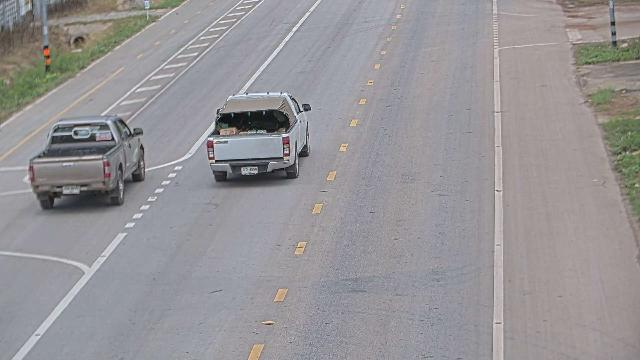pickup-truck: (27, 114, 146, 210), (206, 91, 311, 182)
